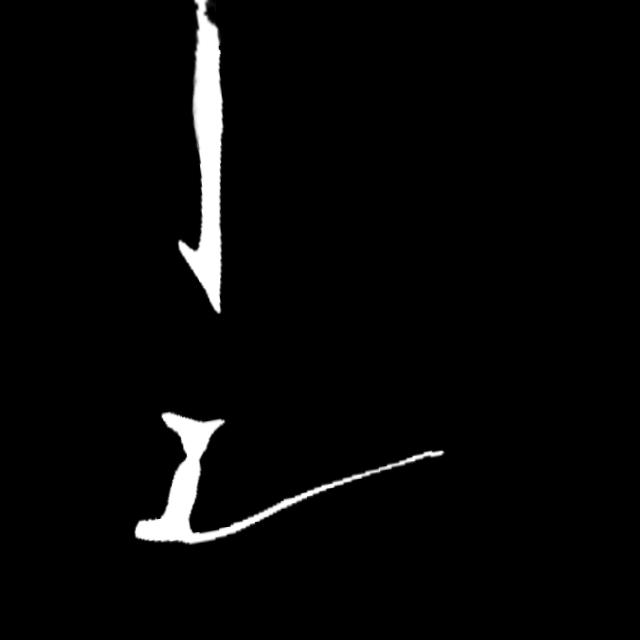sl: (185, 0, 223, 46)
